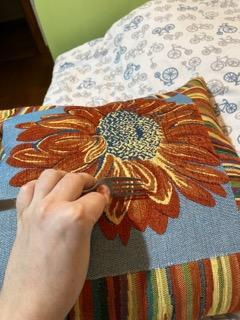fork: (0, 176, 149, 213)
